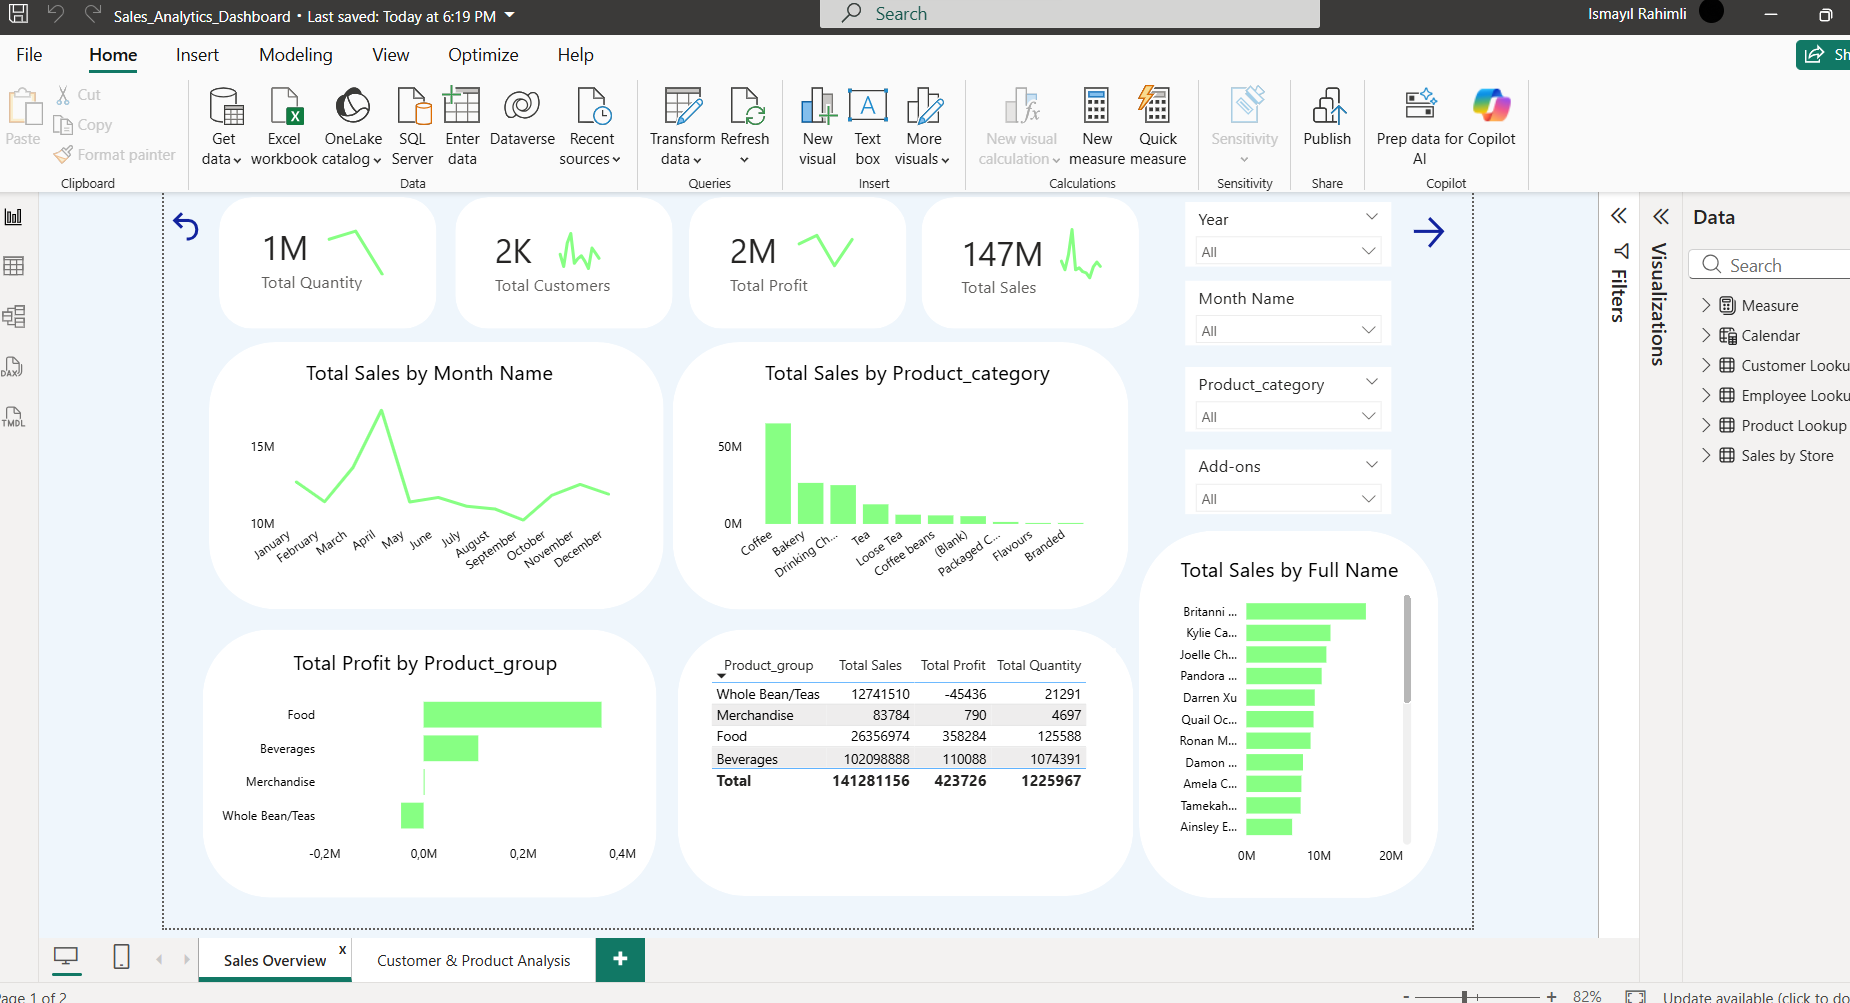

The page's visual inventory and layout, read from the dashboard file:
{"tool":"powerbi","page":{"name":"Sales Overview","canvas":[1280,720],"ordinal":0},"visuals":[{"type":"shape","box":[741.1,4.3,212.7,129],"z":0,"group":"g6"},{"type":"group","id":"g1","title":"Group 1","box":[497.1,146.4,444.9,262],"z":0},{"type":"shape","box":[497.1,146.4,445.9,261.8],"z":0,"group":"g1"},{"type":"shape","box":[953.8,331.4,292.8,359.4],"z":0,"group":"g4"},{"type":"shape","box":[38,428.2,444,262.3],"z":0,"group":"g3"},{"type":"group","id":"g2","title":"Group 2","box":[43.5,146.4,444,262],"z":1000},{"type":"columnChart","fields":{"Category":["Product Lookup.product_category"],"Y":["Measure.Total Sales"]},"box":[536.2,162.6,381,230.3],"z":1000,"group":"g1"},{"type":"slicer","fields":{"Values":["Product Lookup.product_category"]},"box":[999,171.5,201.7,63.1],"z":1000,"group":"g7"},{"type":"barChart","fields":{"Category":["Employee Lookup.Full Name"],"Y":["Measure.Total Sales"]},"box":[977.3,354.2,248.2,313],"z":1000,"group":"g4"},{"type":"barChart","fields":{"Category":["Product Lookup.product_group"],"Y":["Measure.Total Profit"]},"box":[44.2,446.4,423.5,219.8],"z":1000,"group":"g3"},{"type":"shape","box":[513.3,4.3,212.7,129],"z":2000,"group":"g6"},{"type":"actionButton","box":[1217.3,20,51.3,39.9],"z":2000},{"type":"shape","box":[284.1,4.3,212.7,129],"z":3000,"group":"g6"},{"type":"group","id":"g3","title":"Group 1","box":[38,428.2,444,262.3],"z":3000},{"type":"shape","box":[53.6,4.3,212.7,129],"z":4000,"group":"g6"},{"type":"group","id":"g4","title":"Group 1","box":[953.8,331.4,292.8,359.4],"z":4000},{"type":"slicer","fields":{"Values":["Calendar.Year"]},"box":[999,9.6,201.7,63.1],"z":5000,"group":"g7"},{"type":"shape","box":[43.5,146.4,444.8,261.4],"z":5000,"group":"g2"},{"type":"group","id":"g5","title":"Group 3","box":[502.9,427.5,445.7,260.6],"z":5000},{"type":"shape","box":[502.9,427.5,445.7,260.6],"z":5000,"group":"g5"},{"type":"lineChart","fields":{"Category":["Calendar.Month Name"],"Y":["Measure.Total Sales"]},"box":[68.2,162.7,382.7,230.3],"z":5012,"group":"g2"},{"type":"actionButton","box":[2.9,14.5,50.7,37.7],"z":6000},{"type":"slicer","fields":{"Values":["Calendar.Month Name"]},"box":[999,86.4,201.7,63.1],"z":6000,"group":"g7"},{"type":"group","id":"g6","title":"Group 4","box":[53.6,4.3,900,129],"z":7000},{"type":"slicer","fields":{"Values":["Product Lookup.product_group"]},"box":[999,251.1,201.7,63.1],"z":7000,"group":"g7"},{"type":"group","id":"g7","title":"Group 5","box":[999,9.6,201.7,304.6],"z":8000},{"type":"cardVisual","fields":{"Data":["Measure.Total Sales"]},"box":[751,20.4,190.8,99],"z":8000,"group":"g6"},{"type":"cardVisual","fields":{"Data":["Measure.Total Profit"]},"box":[524.8,17.9,190.8,99],"z":9000,"group":"g6"},{"type":"cardVisual","fields":{"Data":["Measure.Total Customers"]},"box":[294.9,17.9,190.8,99],"z":10000,"group":"g6"},{"type":"cardVisual","fields":{"Data":["Measure.Total Quantity"]},"box":[65.7,15,189.9,98.6],"z":11000,"group":"g6"},{"type":"lineChart","fields":{"Y":["Measure.Total Sales"],"Category":["Calendar.Month Number"]},"box":[859.8,17.9,81.9,73.4],"z":12000,"group":"g6"},{"type":"lineChart","fields":{"Y":["Measure.Total Profit"],"Category":["Calendar.Quarter"]},"box":[606.7,20.4,81.9,73.4],"z":13000,"group":"g6"},{"type":"lineChart","fields":{"Category":["Calendar.Month Number"],"Y":["Measure.Total Profit"]},"box":[369.5,17.9,81.9,73.4],"z":14000,"group":"g6"},{"type":"lineChart","fields":{"Y":["Measure.Total Quantity"],"Category":["Calendar.Year"]},"box":[146.9,22.8,81.9,63.6],"z":15000,"group":"g6"},{"type":"tableEx","fields":{"Values":["Product Lookup.product_group","Measure.Total Sales","Measure.Total Profit","Measure.Total Quantity"]},"box":[530.2,445.4,401.2,219.8],"z":19004,"group":"g5"}]}

Visuals, with their boxes on the page's 1280x720 design canvas (x1, y1, x2, y2). These are canvas units, not pixel positions in the 1850x1003 screenshot, which may show the page scaled, cropped or inside an application window:
shape: 741 4 954 133
"Group 1" group: 497 146 942 408
shape: 497 146 943 408
shape: 954 331 1247 691
shape: 38 428 482 690
"Group 2" group: 44 146 488 408
columnChart - Product Lookup.product_category x Measure.Total Sales: 536 163 917 393
slicer - Product Lookup.product_category: 999 172 1201 235
barChart - Employee Lookup.Full Name x Measure.Total Sales: 977 354 1226 667
barChart - Product Lookup.product_group x Measure.Total Profit: 44 446 468 666
shape: 513 4 726 133
actionButton: 1217 20 1269 60
shape: 284 4 497 133
"Group 1" group: 38 428 482 690
shape: 54 4 266 133
"Group 1" group: 954 331 1247 691
slicer - Calendar.Year: 999 10 1201 73
shape: 44 146 488 408
"Group 3" group: 503 428 949 688
shape: 503 428 949 688
lineChart - Calendar.Month Name x Measure.Total Sales: 68 163 451 393
actionButton: 3 14 54 52
slicer - Calendar.Month Name: 999 86 1201 150
"Group 4" group: 54 4 954 133
slicer - Product Lookup.product_group: 999 251 1201 314
"Group 5" group: 999 10 1201 314
cardVisual - Measure.Total Sales: 751 20 942 119
cardVisual - Measure.Total Profit: 525 18 716 117
cardVisual - Measure.Total Customers: 295 18 486 117
cardVisual - Measure.Total Quantity: 66 15 256 114
lineChart - Measure.Total Sales x Calendar.Month Number: 860 18 942 91
lineChart - Measure.Total Profit x Calendar.Quarter: 607 20 689 94
lineChart - Calendar.Month Number x Measure.Total Profit: 370 18 451 91
lineChart - Measure.Total Quantity x Calendar.Year: 147 23 229 86
tableEx - Product Lookup.product_group x Measure.Total Sales: 530 445 931 665
